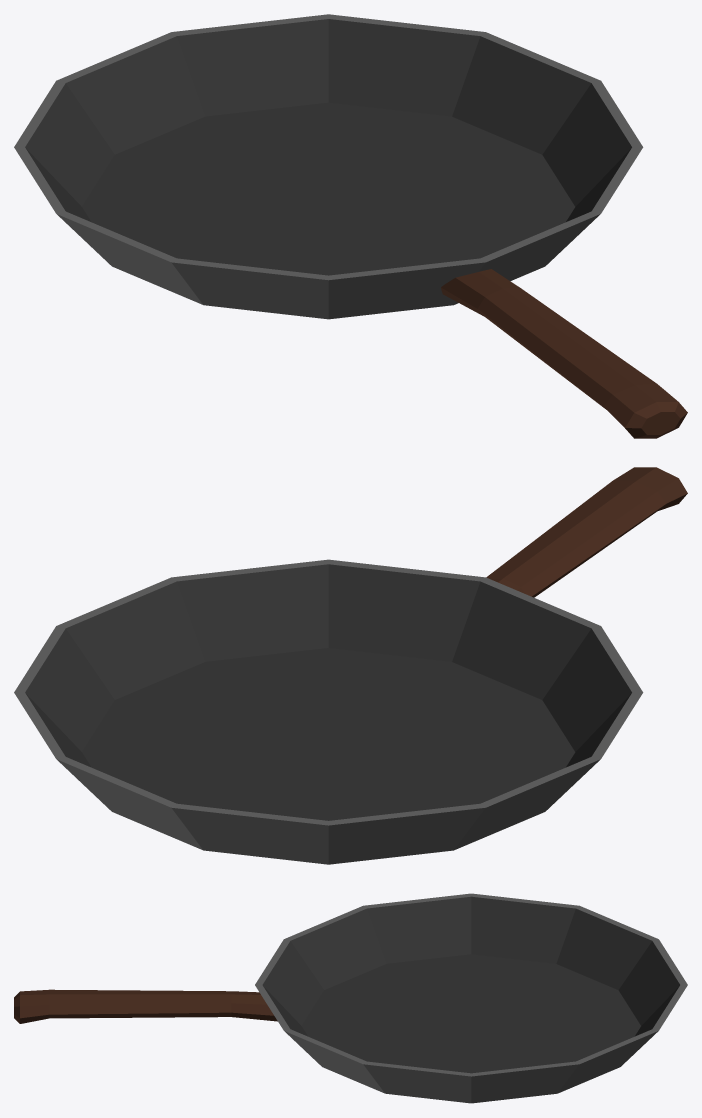
The model's file is Pan_mat.fbx.
3 views of the same model, one above another, from view 1: azimuth 30°, elevation 25°; view 2: azimuth 150°, elevation 25°; view 3: azimuth 270°, elevation 25° (orthographic). The views are drawn at different scales.
Parts seen in each view (by area): view 1: Pan_mat; view 2: Pan_mat; view 3: Pan_mat.
Part boxes in pixels (x1,y1,x2,y2): Pan_mat: [14, 14, 687, 438]; Pan_mat: [14, 467, 687, 864]; Pan_mat: [14, 893, 687, 1103].
Size of the model in its own units: 18.56 by 2.16 by 28.88.
